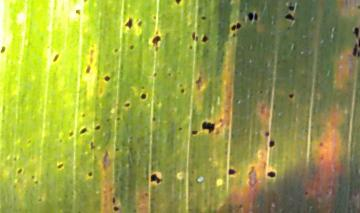tarspot: (200, 119, 217, 135), (148, 173, 165, 186), (77, 124, 90, 138), (150, 34, 163, 48), (350, 43, 360, 60), (265, 168, 278, 181), (225, 166, 239, 178), (282, 12, 297, 23), (123, 16, 134, 31), (101, 73, 112, 86), (87, 140, 97, 154), (301, 187, 311, 201), (201, 30, 209, 47), (246, 9, 254, 26), (352, 23, 360, 40), (137, 91, 149, 102), (266, 138, 277, 150), (148, 113, 159, 125), (73, 6, 83, 19), (136, 17, 146, 30), (55, 161, 66, 172), (14, 165, 25, 176), (91, 123, 103, 133), (50, 53, 62, 63), (122, 100, 132, 112), (126, 41, 136, 53), (235, 20, 244, 33), (286, 2, 297, 12), (84, 64, 93, 76), (178, 86, 187, 98), (228, 22, 237, 34), (150, 69, 159, 81), (286, 91, 296, 101), (86, 169, 95, 180), (190, 127, 199, 138), (111, 194, 118, 208), (190, 30, 197, 43), (262, 129, 271, 139), (111, 46, 121, 55), (114, 115, 123, 125), (111, 205, 122, 213), (176, 124, 184, 135), (198, 14, 209, 22), (67, 129, 75, 140), (151, 12, 159, 23), (113, 145, 121, 155), (1, 45, 8, 56), (255, 11, 261, 23), (172, 1, 184, 7), (33, 177, 39, 188)
